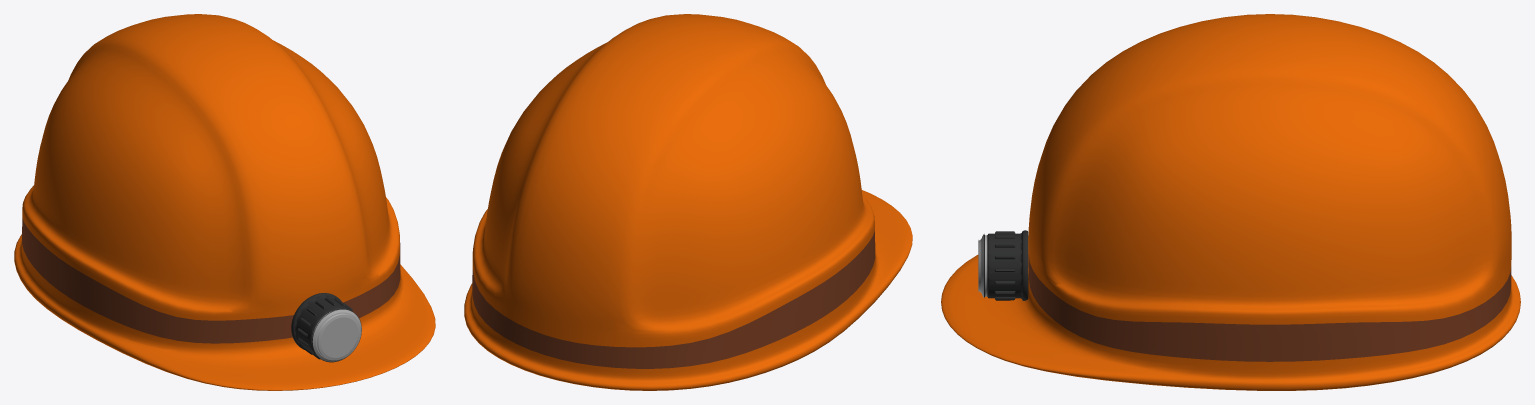
Rendered from casc.fbx.
The picture shows the model from 3 angles, left to right: view 1: azimuth 30°, elevation 25°; view 2: azimuth 150°, elevation 25°; view 3: azimuth 270°, elevation 25°; orthographic projection. The views are drawn at different scales.
Parts seen in each view (by area): view 1: Circle; view 2: Circle; view 3: Circle.
Part boxes in pixels (box(x1,y1,x2,y2)): Circle: box(14, 14, 435, 390); Circle: box(464, 14, 912, 390); Circle: box(941, 14, 1520, 390).
Bounding box in the file's own units: 180 × 132 × 254.
